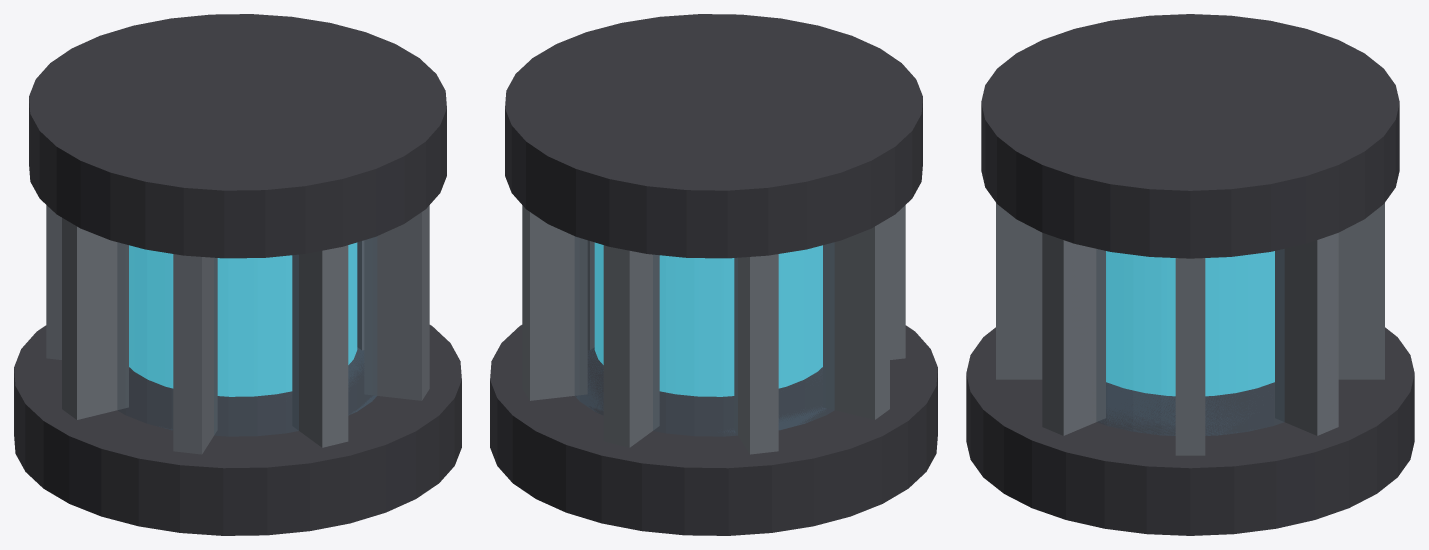
The model's file is datacenter_power_core.glb.
The picture shows the model from 3 angles, left to right: view 1: azimuth 30°, elevation 25°; view 2: azimuth 150°, elevation 25°; view 3: azimuth 270°, elevation 25°; orthographic projection.
Visible parts, largest first — view 1: Core_Body, Core_Crystal; view 2: Core_Body, Core_Crystal; view 3: Core_Body, Core_Crystal.
Part boxes in pixels (left/top/right/bottom): Core_Body: left=14, top=14, right=461, bottom=535; Core_Crystal: left=129, top=242, right=357, bottom=396; Core_Body: left=490, top=14, right=937, bottom=535; Core_Crystal: left=594, top=242, right=822, bottom=396; Core_Body: left=966, top=14, right=1414, bottom=535; Core_Crystal: left=1106, top=251, right=1274, bottom=396.
Size of the model in its own units: 3 by 2.5 by 3.
